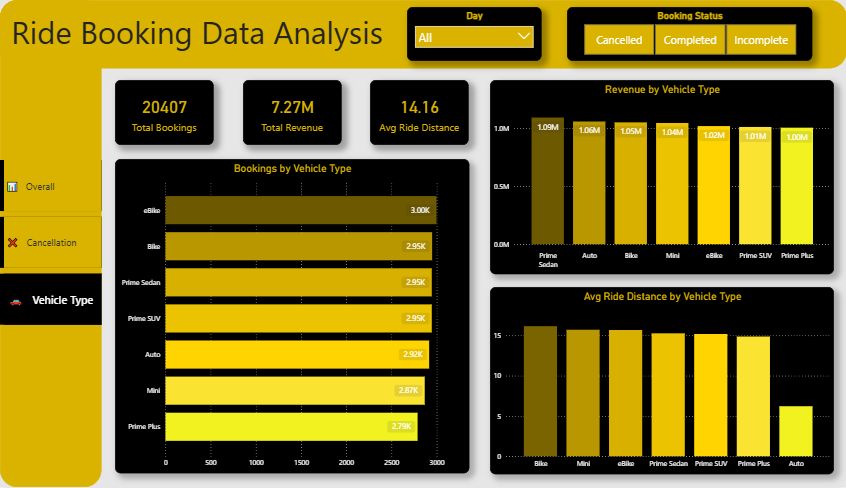

What the dashboard file says about the page in this screenshot:
{"tool":"powerbi","page":{"name":"🚗   Vehicle Type","canvas":[1460,840],"ordinal":2},"visuals":[{"type":"shape","title":"Menu BG","box":[0,0,175.4,840.4],"z":0},{"type":"card","fields":{"Values":["rides.Total Bookings"]},"box":[198.2,138.6,170.2,112.3],"z":0,"group":"g1"},{"type":"shape","title":"Menu BG","box":[0,0,1460,118.3],"z":1000},{"type":"card","fields":{"Values":["rides.Total Revenue"]},"box":[418.4,138.6,170.2,112.3],"z":1000,"group":"g1"},{"type":"pageNavigator","title":"Menu Buttons","box":[0,275.4,175.4,284.2],"z":2000},{"type":"columnChart","title":"Avg Ride Distance by Vehicle Type","fields":{"Category":["rides.Vehicle_Type"],"Y":["rides.Avg Ride Distance"]},"box":[845.6,494.7,593,322.8],"z":2000,"group":"g1"},{"type":"columnChart","title":"Revenue by Vehicle Type","fields":{"Category":["rides.Vehicle_Type"],"Y":["rides.Total Revenue"]},"box":[845.6,138.6,593,335.1],"z":3000,"group":"g1"},{"type":"pageNavigator","title":"Menu Buttons","box":[7,275.4,168.4,284.2],"z":3000},{"type":"textbox","box":[0,12.3,673.7,93],"z":4000},{"type":"barChart","title":"Bookings by Vehicle Type","fields":{"Category":["rides.Vehicle_Type"],"Y":["rides.Total Bookings"]},"box":[198.2,275.4,610.5,542.1],"z":4000,"group":"g1"},{"type":"slicer","title":"Day","fields":{"Values":["rides.Day"]},"box":[701.8,12.3,231.6,93],"z":5000},{"type":"card","fields":{"Values":["rides.Avg Ride Distance"]},"box":[638.6,138.6,170.2,112.3],"z":5000,"group":"g1"},{"type":"slicer","title":"Booking Status","fields":{"Values":["rides.Booking_Status"]},"box":[977.2,12.3,422.8,93],"z":6000},{"type":"group","id":"g1","title":"Group 1","box":[198.2,138.6,1240.4,678.9],"z":7000}]}

Visuals, with their boxes on the page's 1460x840 design canvas (x1, y1, x2, y2). These are canvas units, not pixel positions in the 846x488 screenshot, which may show the page scaled, cropped or inside an application window:
"Menu BG" shape: bbox=(0, 0, 175, 840)
card - rides.Total Bookings: bbox=(198, 139, 368, 251)
"Menu BG" shape: bbox=(0, 0, 1460, 118)
card - rides.Total Revenue: bbox=(418, 139, 589, 251)
"Menu Buttons" pageNavigator: bbox=(0, 275, 175, 560)
"Avg Ride Distance by Vehicle Type" columnChart: bbox=(846, 495, 1439, 818)
"Revenue by Vehicle Type" columnChart: bbox=(846, 139, 1439, 474)
"Menu Buttons" pageNavigator: bbox=(7, 275, 175, 560)
textbox: bbox=(0, 12, 674, 105)
"Bookings by Vehicle Type" barChart: bbox=(198, 275, 809, 818)
"Day" slicer: bbox=(702, 12, 933, 105)
card - rides.Avg Ride Distance: bbox=(639, 139, 809, 251)
"Booking Status" slicer: bbox=(977, 12, 1400, 105)
"Group 1" group: bbox=(198, 139, 1439, 818)
